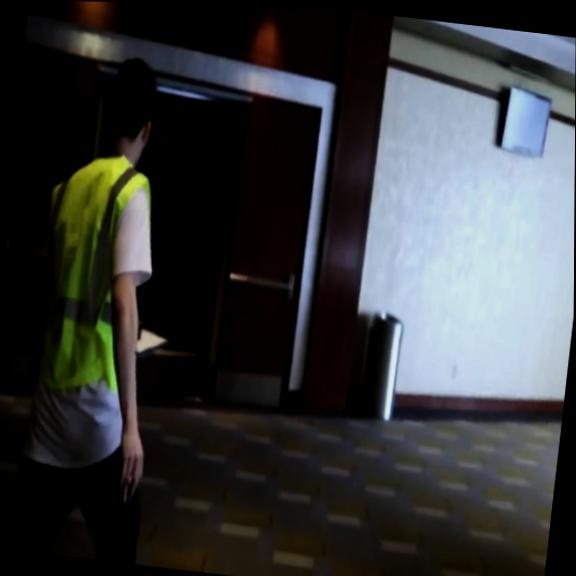safety_vest: (28, 144, 152, 396)
